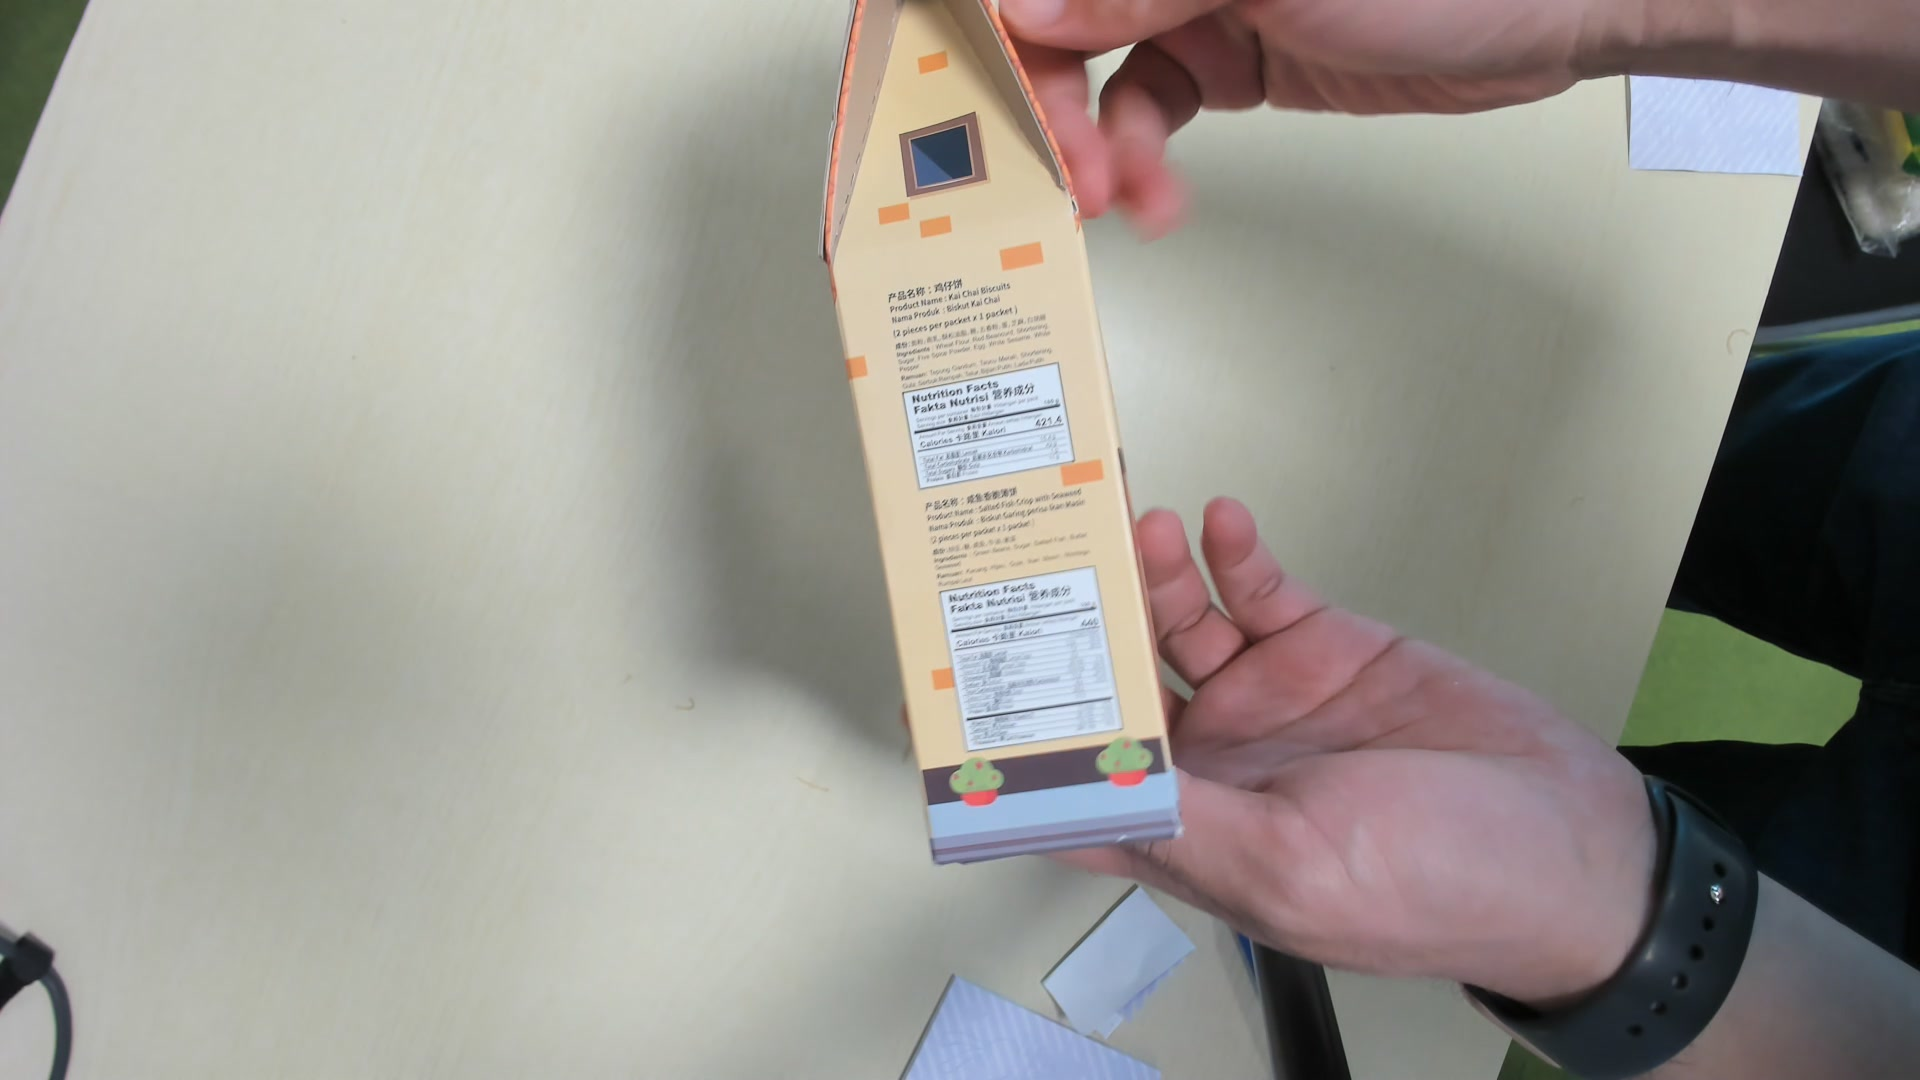SweetsChocolatesOthers_0-99g_Halal_Nonhealthy: (824, 1, 1183, 880)
